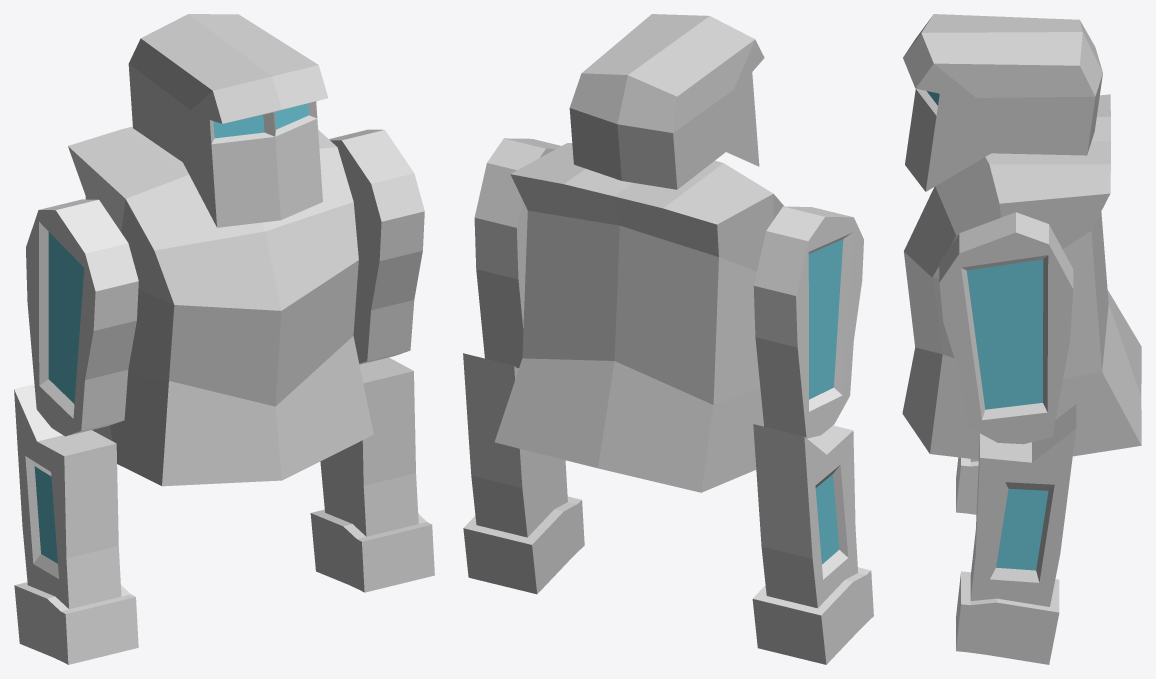
File: blockerupright.fbx
The picture shows the model from 3 angles, left to right: view 1: azimuth 30°, elevation 25°; view 2: azimuth 150°, elevation 25°; view 3: azimuth 270°, elevation 25°; orthographic projection. The views are drawn at different scales.
Parts seen in each view (by area): view 1: Cube, Cube.001, Cube.003, Cube.002, Cube.004, Cube.005; view 2: Cube, Cube.001, Cube.003, Cube.002, Cube.004, Cube.005; view 3: Cube, Cube.001, Cube.005, Cube.004, Cube.003.
Boxes of the visible parts, x1,y1,x2,y2 form: Cube: (68, 126, 373, 486); Cube.001: (128, 14, 328, 227); Cube.003: (14, 384, 138, 664); Cube.002: (26, 199, 138, 436); Cube.004: (310, 357, 434, 592); Cube.005: (329, 129, 424, 364); Cube: (494, 143, 784, 492); Cube.001: (569, 14, 764, 189); Cube.003: (752, 424, 873, 664); Cube.002: (753, 206, 863, 438); Cube.004: (463, 353, 584, 594); Cube.005: (474, 138, 560, 368); Cube: (902, 94, 1141, 459); Cube.001: (903, 14, 1102, 191); Cube.005: (939, 212, 1073, 444); Cube.004: (956, 404, 1076, 664); Cube.003: (956, 457, 978, 514).
Bounding box in the file's own units: 204 × 516 × 346.
